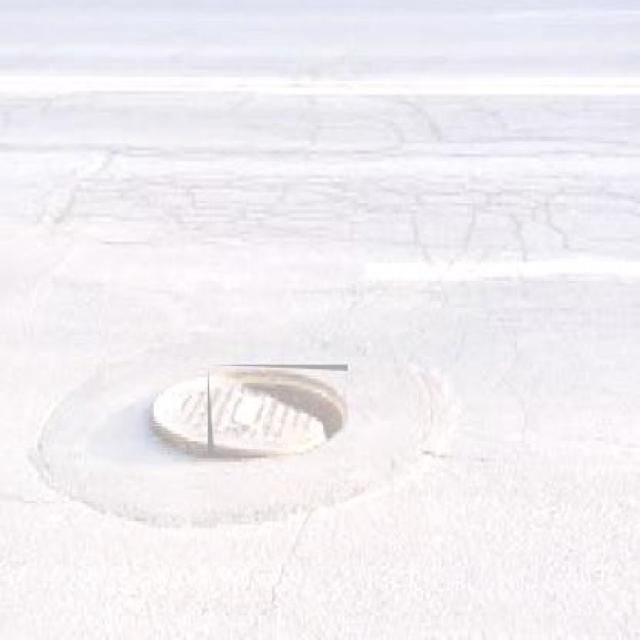Open Manhole: (208, 364, 348, 456)
